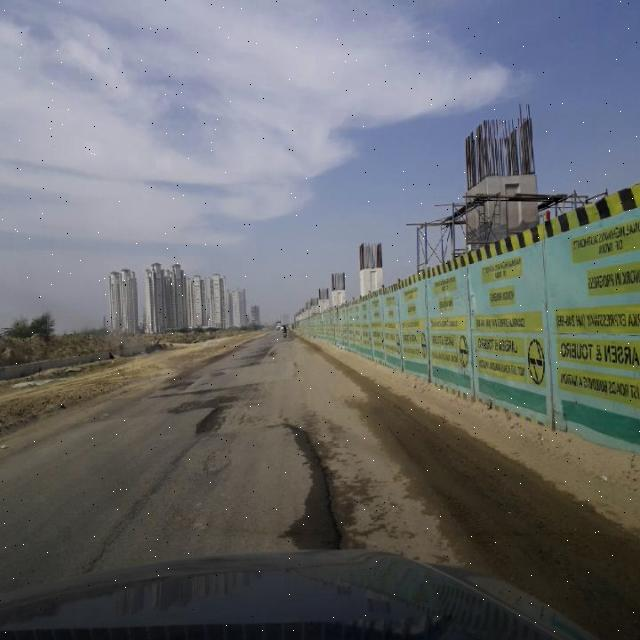D00: (77, 444, 203, 569), (290, 414, 348, 538)
D40: (165, 388, 238, 438)
